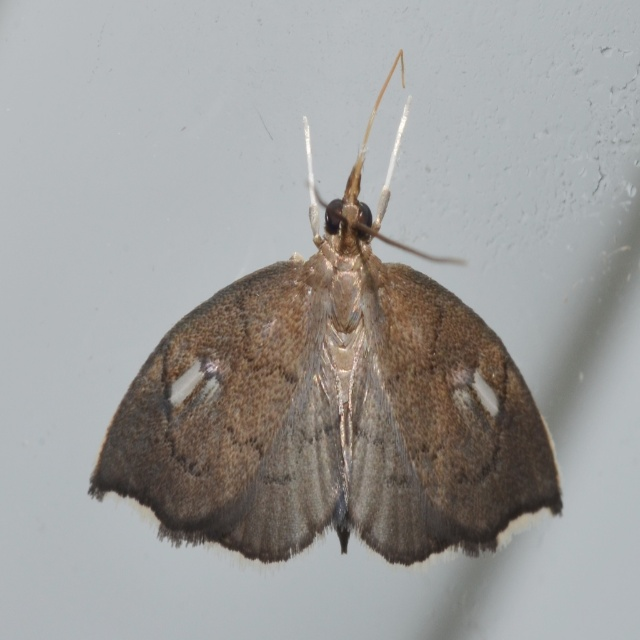Butterfly: (108, 61, 571, 580)
